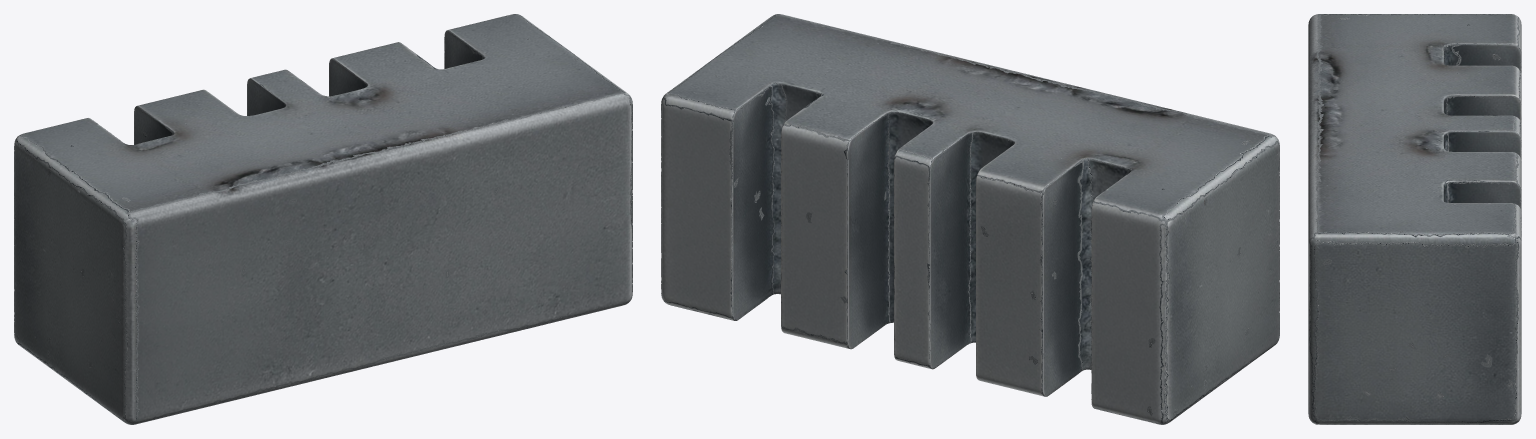
3 renders of one model, left to right at view 1: azimuth 30°, elevation 25°; view 2: azimuth 150°, elevation 25°; view 3: azimuth 270°, elevation 25°, orthographic. The views are drawn at different scales.
Bounding box in the file's own units: 1.78 × 0.7062 × 0.7097.
1 material, 1 textured.
